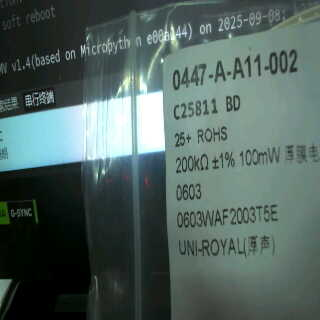200kR: (168, 150, 211, 179)
